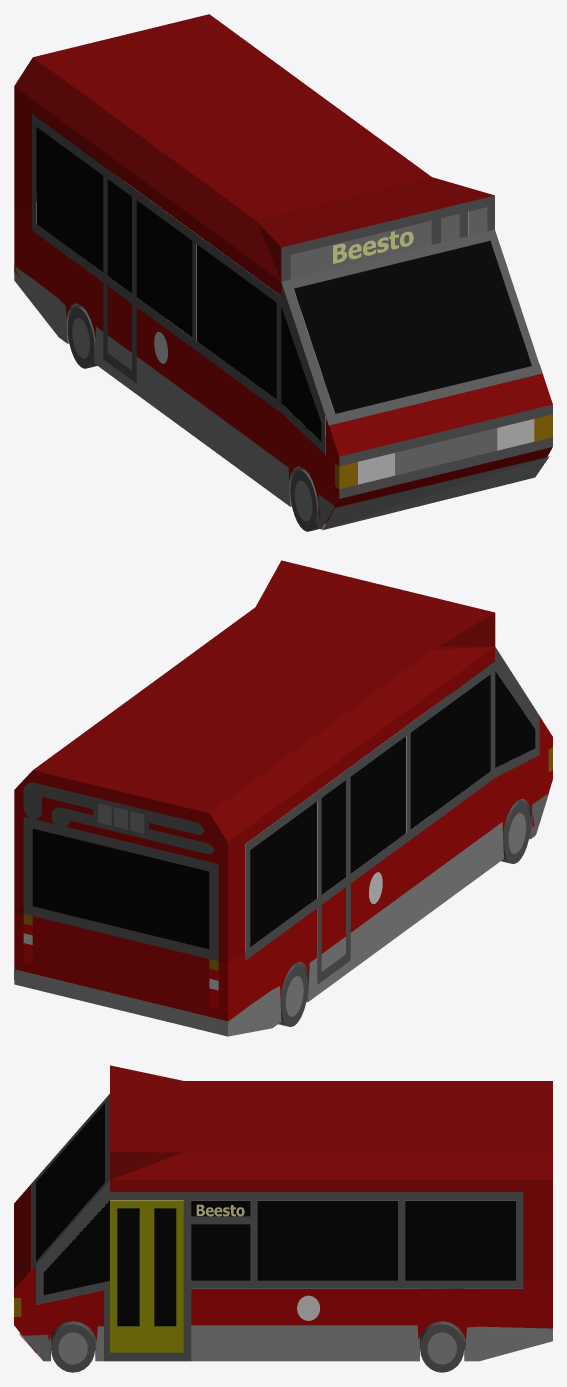
File: optare-metrorider-red-short.dae
3 renders of one model, top to bottom at view 1: azimuth 30°, elevation 25°; view 2: azimuth 150°, elevation 25°; view 3: azimuth 270°, elevation 25°, orthographic. The views are drawn at different scales.
Parts seen in each view (by area): view 1: SketchUp_002, SketchUp_034, SketchUp_001, SketchUp_025, SketchUp_011, SketchUp_008, SketchUp_009, SketchUp_010, SketchUp_020, SketchUp_024, SketchUp_038, SketchUp_031 (+11 smaller); view 2: SketchUp_002, SketchUp_020, SketchUp_047, SketchUp_001, SketchUp_046, SketchUp_025, SketchUp_011, SketchUp_008, SketchUp_009, SketchUp_010, SketchUp_007, SketchUp_031 (+6 smaller); view 3: SketchUp_002, SketchUp_001, SketchUp_020, SketchUp_005, SketchUp_006, SketchUp_003, SketchUp_004, SketchUp_034, SketchUp_025, SketchUp, SketchUp_032, SketchUp_028 (+10 smaller).
Boxes of the visible parts, x1,y1,x2,y2 form: SketchUp_002: (14, 14, 494, 295); SketchUp_034: (294, 240, 531, 413); SketchUp_001: (32, 114, 542, 454); SketchUp_025: (136, 307, 552, 522); SketchUp_011: (197, 244, 276, 399); SketchUp_008: (94, 327, 290, 506); SketchUp_009: (36, 127, 103, 272); SketchUp_010: (136, 200, 192, 337); SketchUp_020: (14, 208, 103, 337); SketchUp_024: (321, 456, 548, 530); SketchUp_038: (290, 220, 431, 278); SketchUp_031: (107, 179, 131, 293); SketchUp_002: (14, 560, 494, 963); SketchUp_020: (14, 908, 316, 1021); SketchUp_047: (32, 828, 209, 949); SketchUp_001: (246, 613, 539, 984); SketchUp_046: (23, 782, 218, 961); SketchUp_025: (350, 716, 552, 932); SketchUp_011: (410, 674, 490, 829); SketchUp_008: (308, 822, 503, 1001); SketchUp_009: (250, 801, 316, 946); SketchUp_010: (350, 736, 405, 873); SketchUp_007: (14, 969, 281, 1036); SketchUp_031: (321, 780, 345, 894); SketchUp_002: (110, 1065, 552, 1280); SketchUp_001: (31, 1094, 523, 1361); SketchUp_020: (191, 1280, 552, 1339); SketchUp_005: (257, 1200, 397, 1280); SketchUp_006: (405, 1200, 515, 1280); SketchUp_003: (191, 1325, 419, 1361); SketchUp_004: (110, 1200, 183, 1352); SketchUp_034: (36, 1103, 104, 1261); SketchUp_025: (14, 1184, 103, 1353); SketchUp: (43, 1200, 109, 1294); SketchUp_032: (191, 1224, 250, 1280); SketchUp_028: (117, 1208, 139, 1326).
Bounding box in the file's own units: 1.63 × 4.25 × 1.92.
